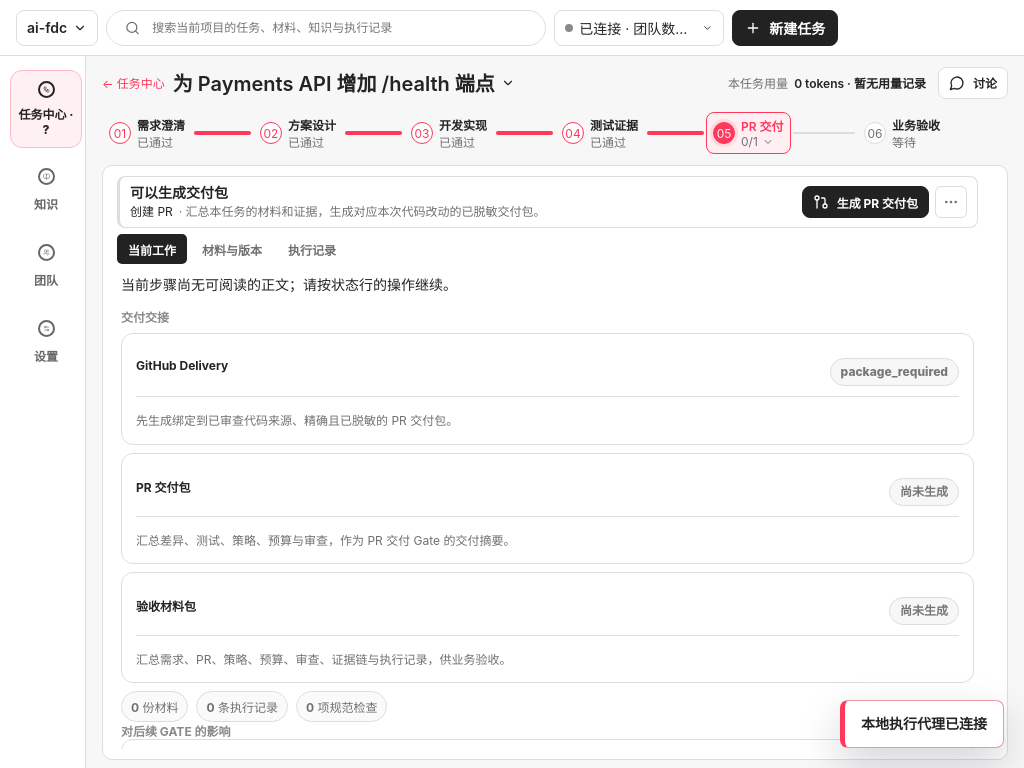
App › shows the explicitly bound Team Project for a local run after sync
Click the button with aria-label "团队连接：".
click(639, 28)  # box x1=554 y1=10 x2=724 y2=46
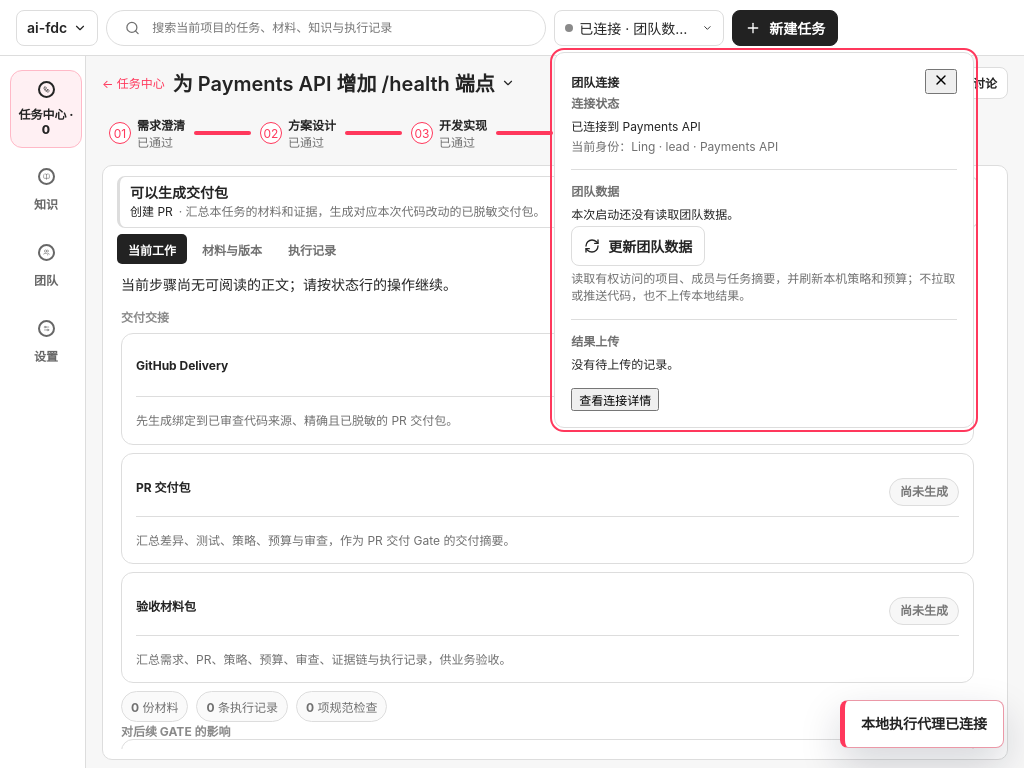
Click the button "更新团队数据".
click(638, 246)  # box x1=571 y1=226 x2=705 y2=266
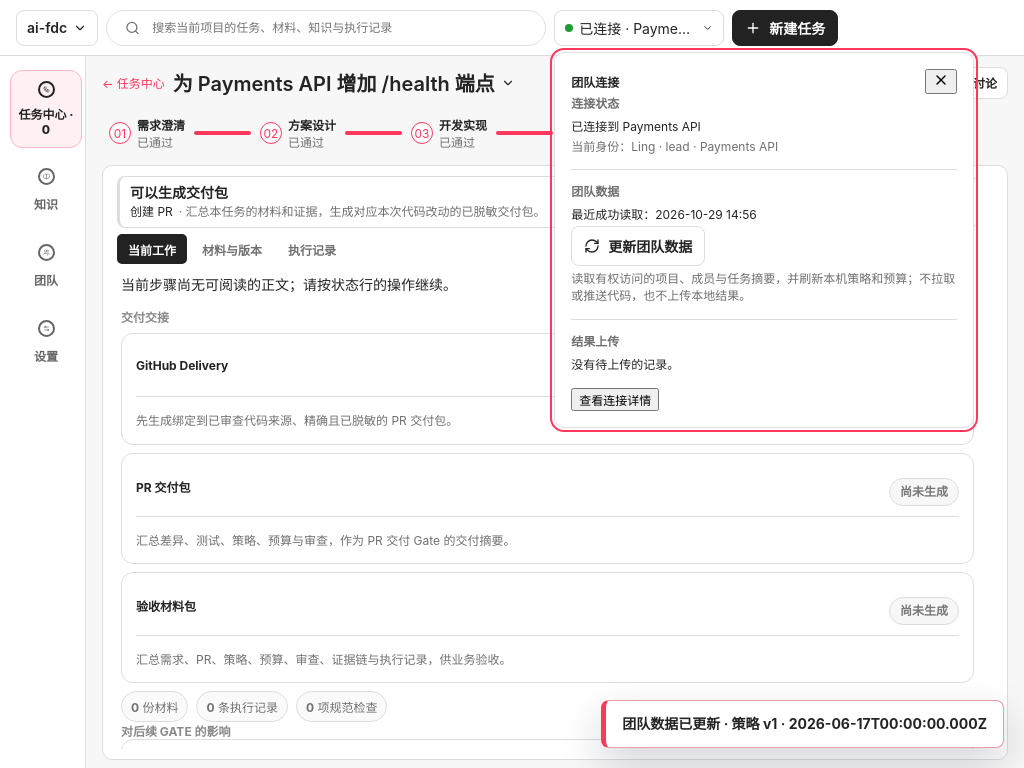
Expected: the button with aria-label "团队连接：" reads "已连接 · Payments API", x1=554 y1=10 x2=724 y2=46
